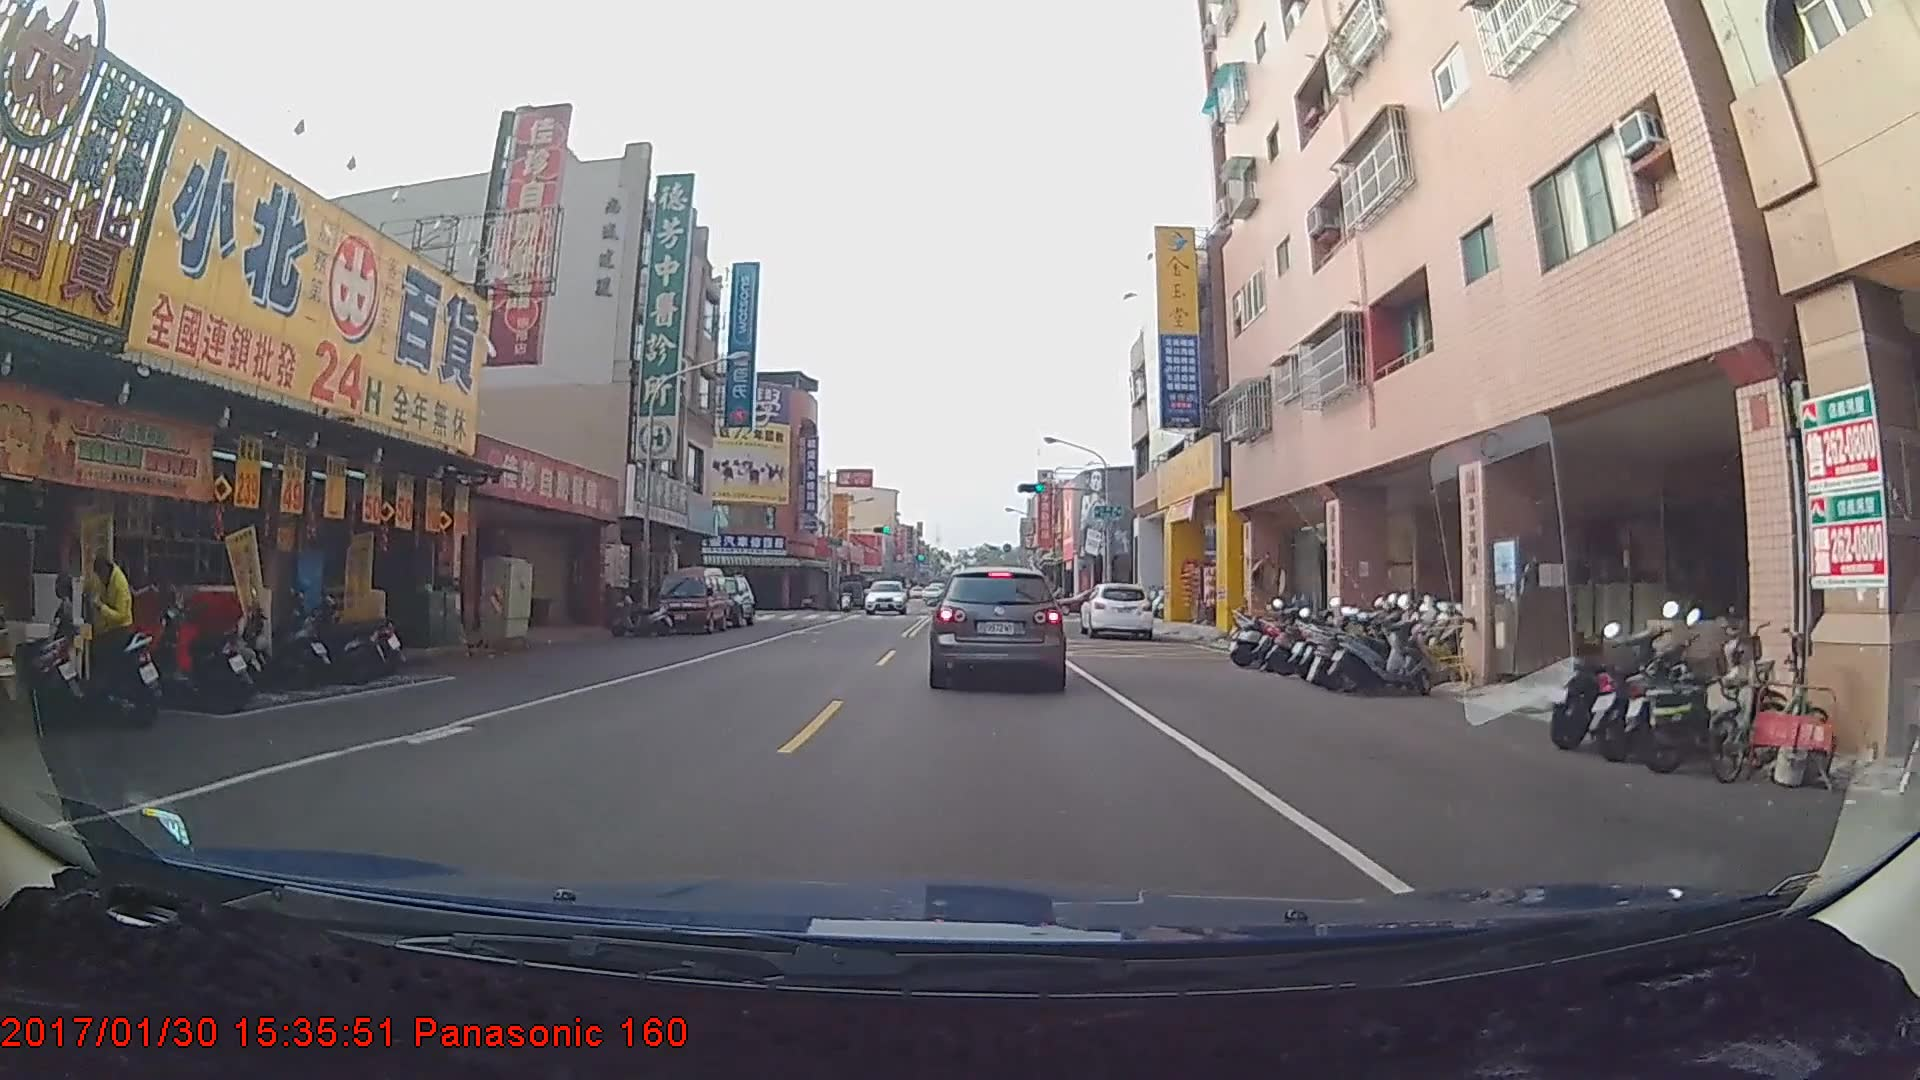pedestrian: (83, 548, 137, 720)
vehicle: (931, 564, 1065, 688), (654, 565, 730, 633), (1081, 582, 1153, 639), (864, 573, 899, 603)
